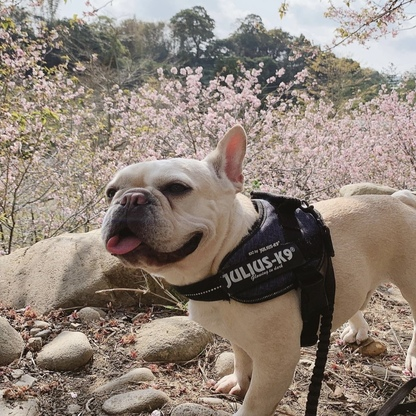bulldog: (99, 122, 414, 416)
